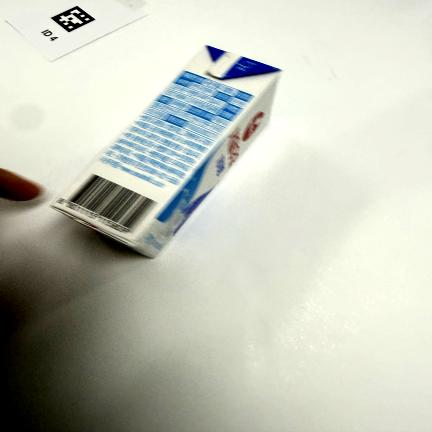milk_blue: (52, 46, 281, 258)
